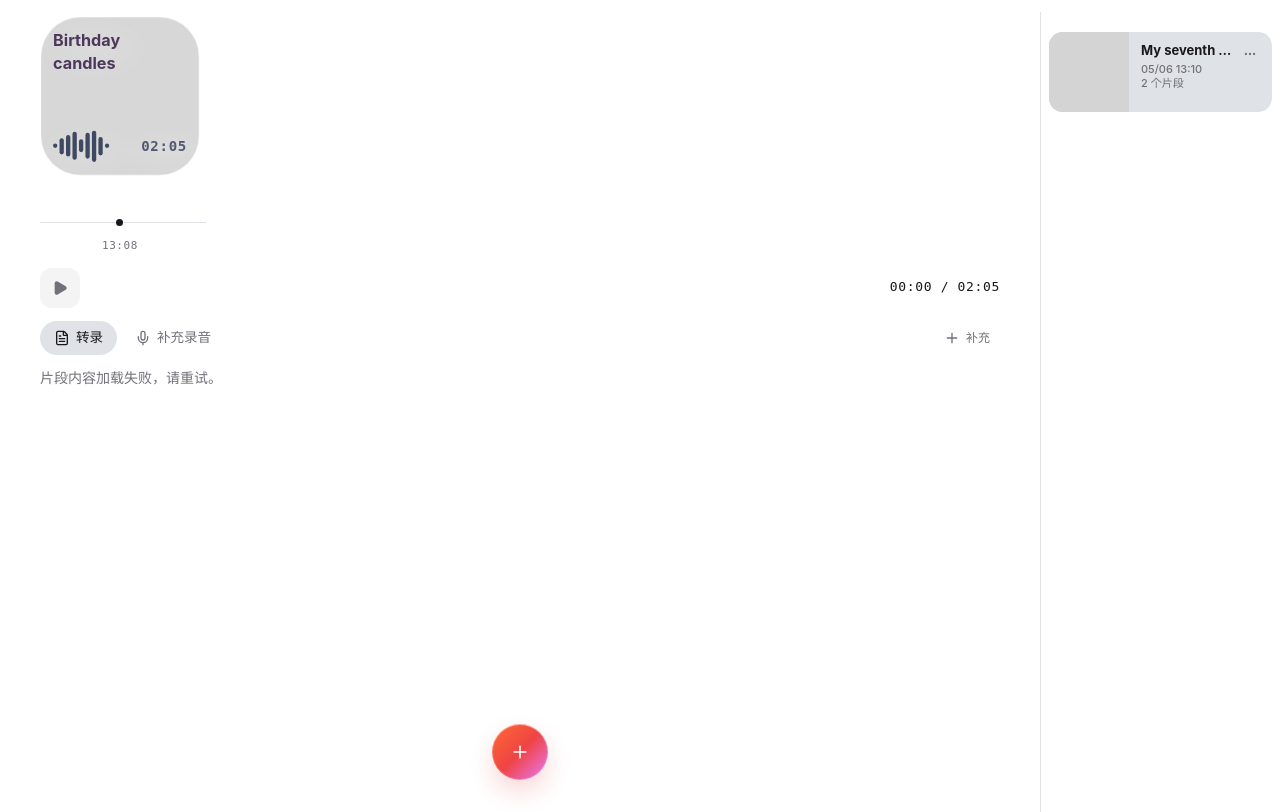
Test case: LoadedWorkspaceFrame › keeps failed supplement transcripts editable below the supplement playback row
Click the tab "补充录音": point(166, 338) [121,321,211,355]
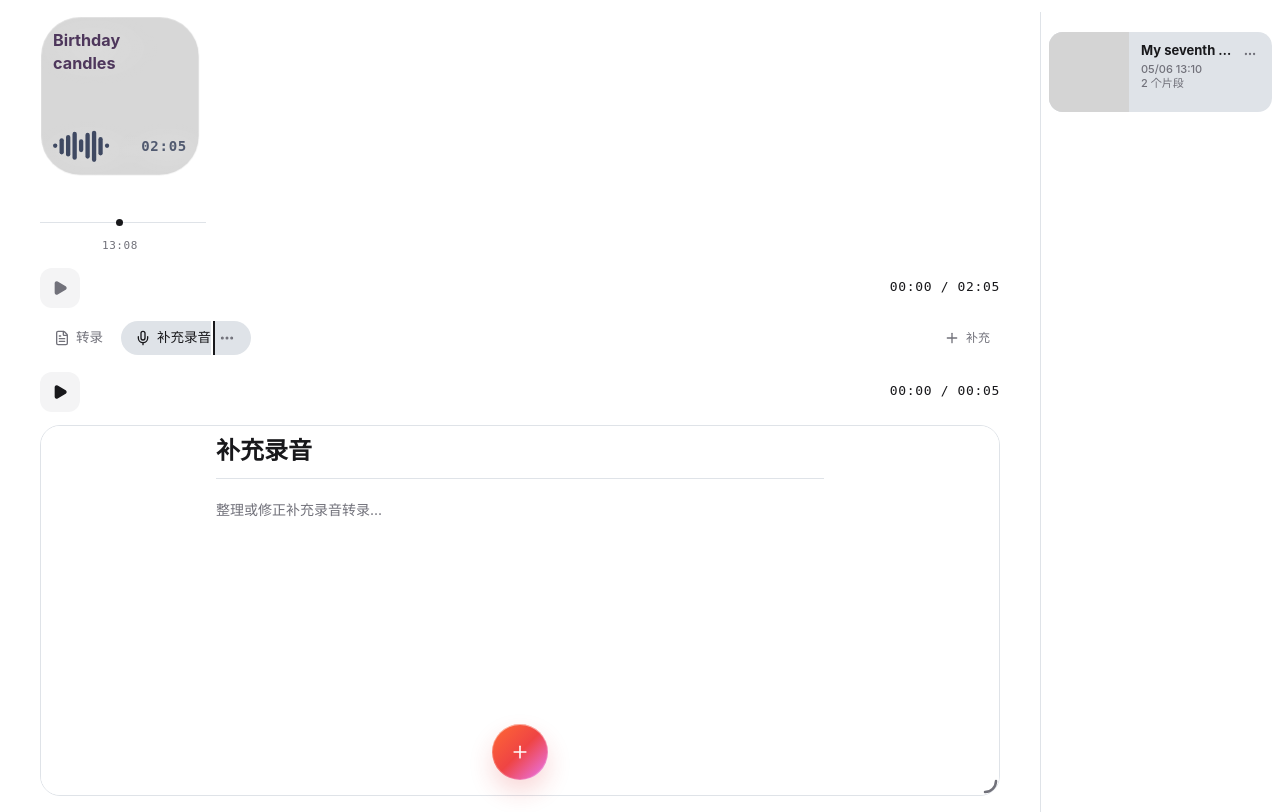
Expected: the field named "补充录音转录正文" is empty, [216,499,824,521]
Expected: the message "重试" is gone
